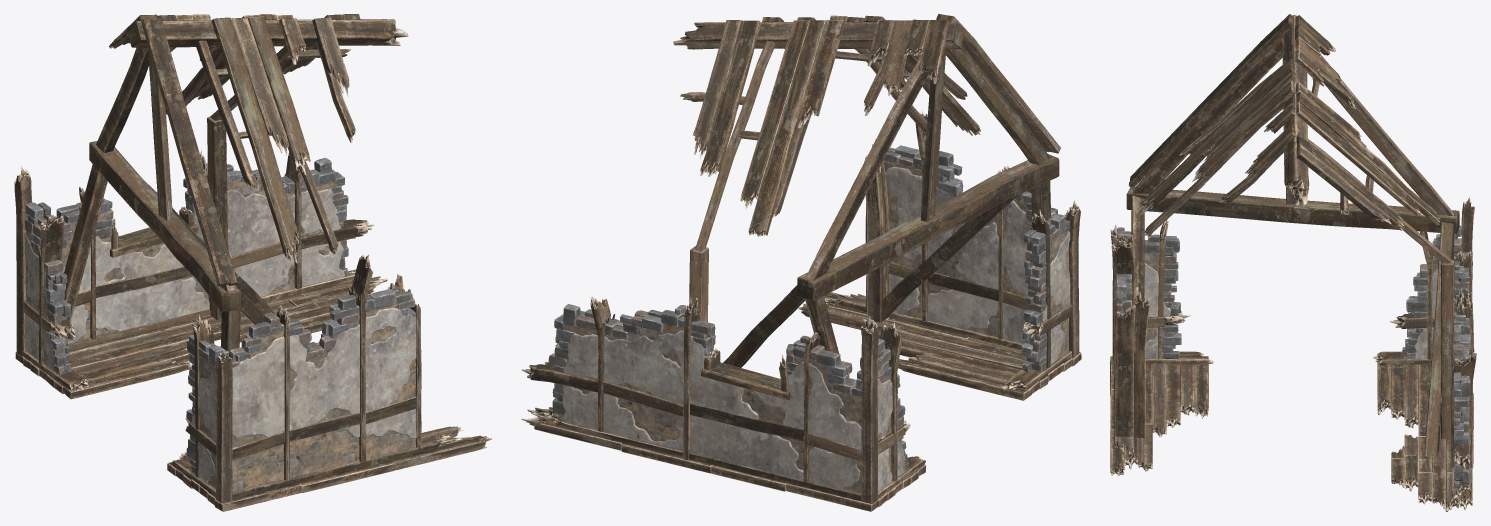
3 views of the same model, side by side, from view 1: azimuth 30°, elevation 25°; view 2: azimuth 150°, elevation 25°; view 3: azimuth 270°, elevation 25° (orthographic). The views are drawn at different scales.
Parts seen in each view (by area): view 1: SM_House_05_Dmg_LOD0; view 2: SM_House_05_Dmg_LOD0; view 3: SM_House_05_Dmg_LOD0.
Part boxes in pixels (x1,y1,x2,y2): SM_House_05_Dmg_LOD0: (14,14,492,511); SM_House_05_Dmg_LOD0: (521,14,1081,511); SM_House_05_Dmg_LOD0: (1110,14,1476,511).
Size of the model in its own units: 6.43 by 7.04 by 6.51.
4 materials, 4 textured.
